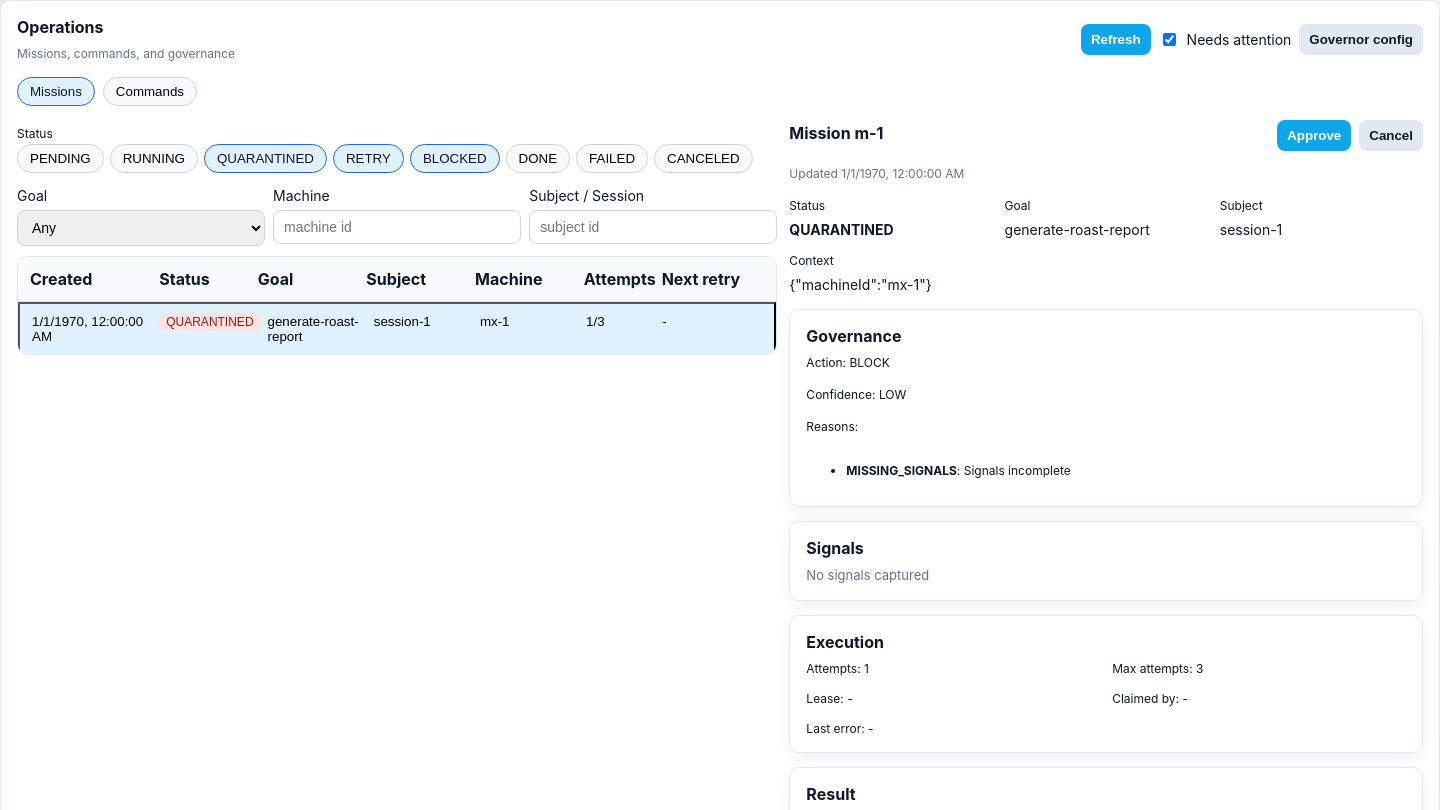
Test: OpsPanel › approves a mission and refreshes the list
The width and height of the screenshot is (1440, 810).
Click the button "session-1": [397, 328] box [18,302,776,354]
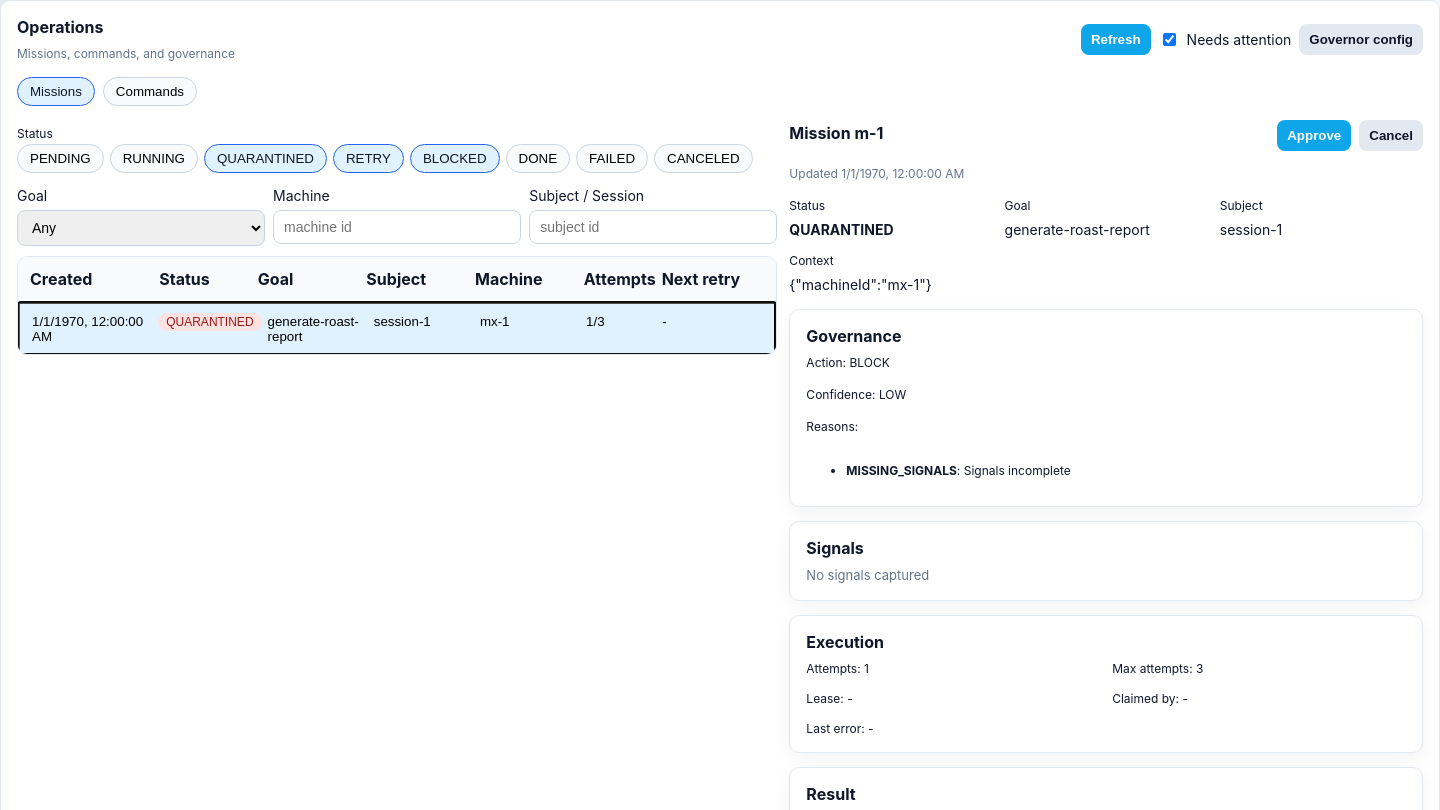
Click the button "Approve": [1314, 136] box [1277,120,1351,151]
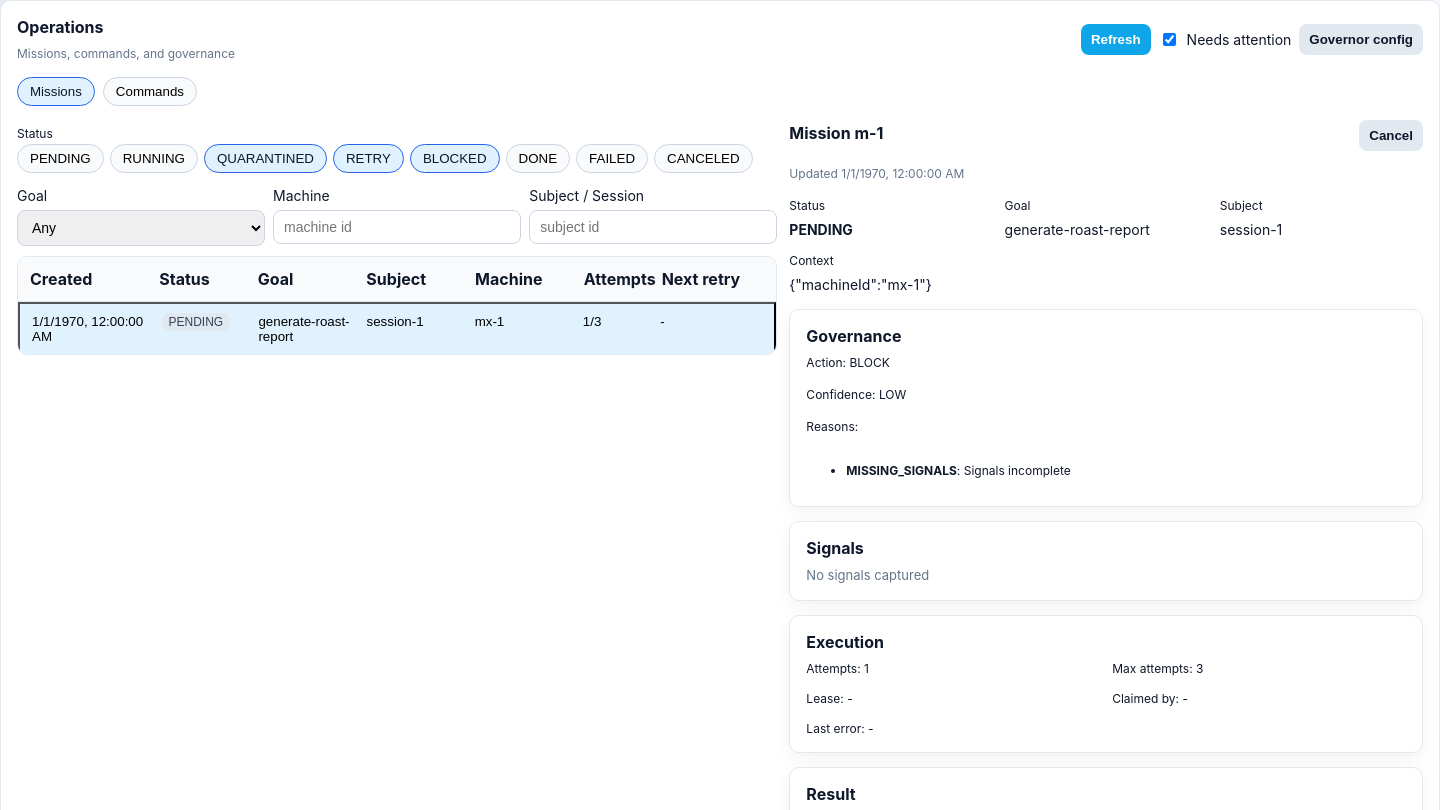
Expected: the text "PENDING" below "Created" is shown, [168,315,223,329]
